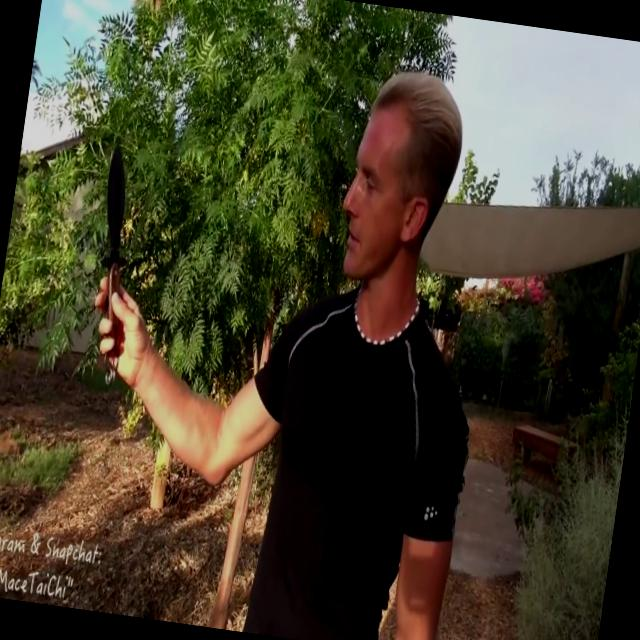knife: (72, 133, 158, 390)
